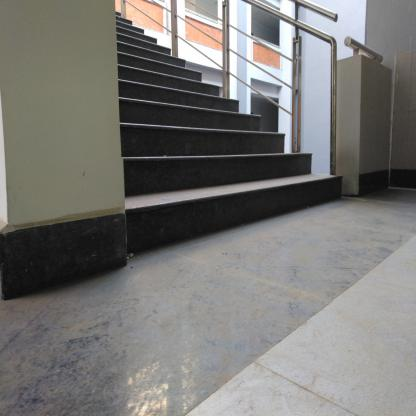stairs: (130, 82, 219, 260)
